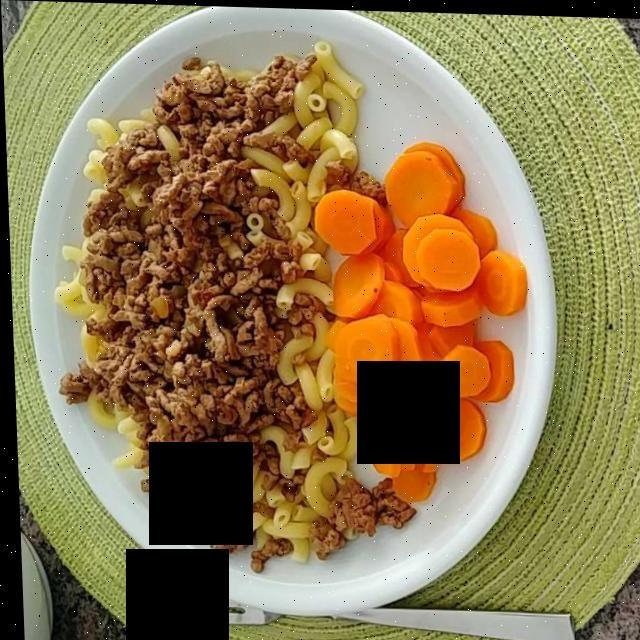carrot: (319, 146, 519, 497)
minced-meat: (54, 59, 409, 566)
pasta: (70, 58, 415, 563)
